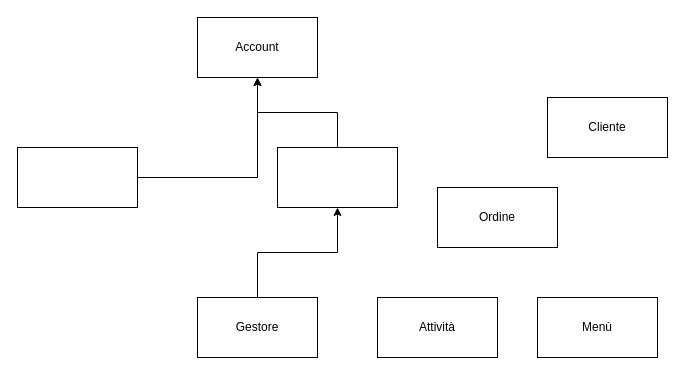
Image size: 685x375. Some labels were removed from this diagram. Here are the shapes that lost their labels. From the top down, the centre of each, then its label:
the point at 77,177: Assistenza
the point at 337,177: Personale
